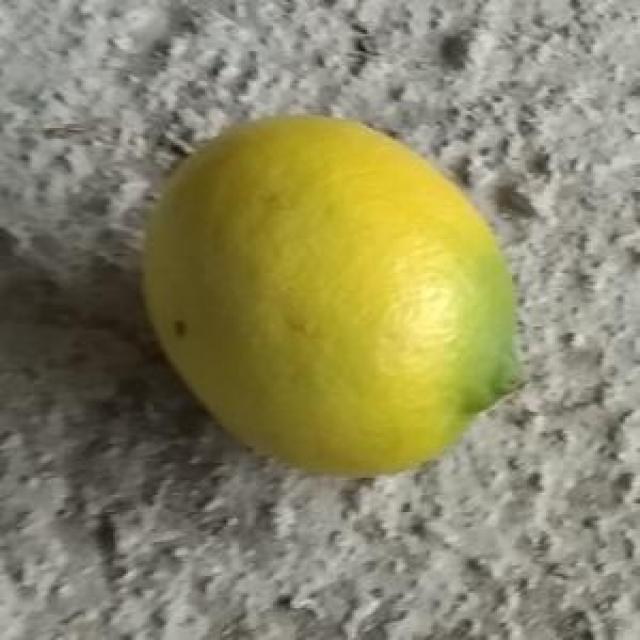lemon: (136, 104, 532, 482)
